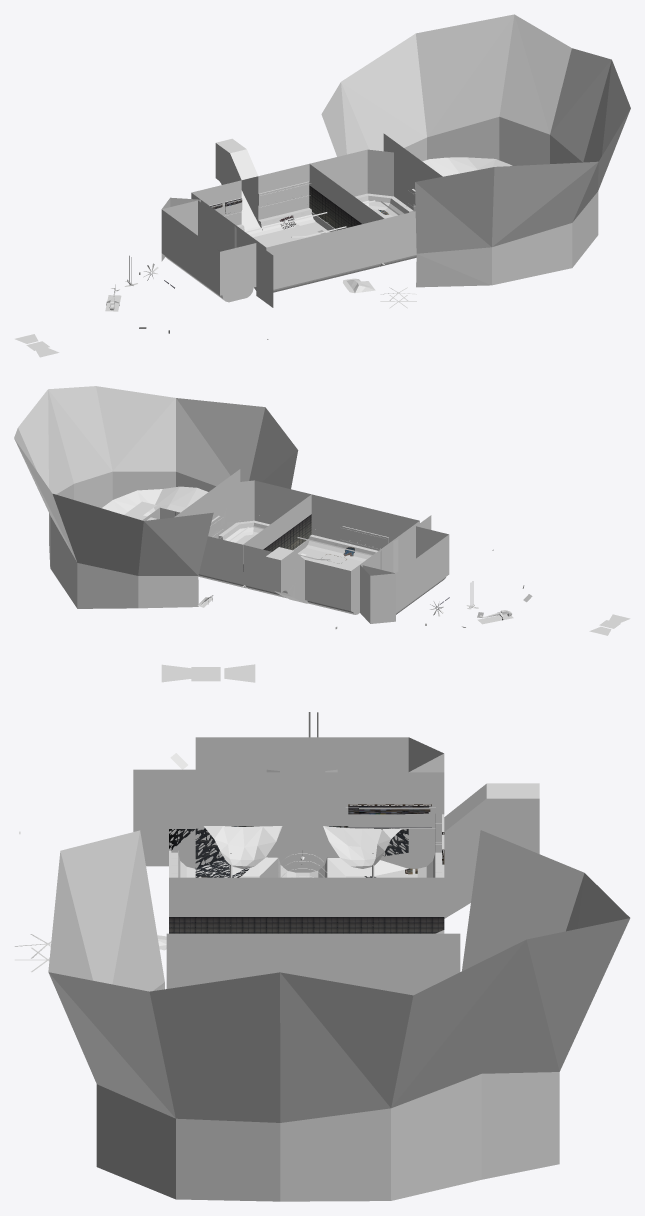
Rendered from t2_han.glb.
3 renders of one model, top to bottom at view 1: azimuth 30°, elevation 25°; view 2: azimuth 150°, elevation 25°; view 3: azimuth 270°, elevation 25°, orthographic. The views are drawn at different scales.
Visible parts, largest first — view 1: SKHAN_Col_Floor, SKHAN_Col_Wall, SKHAN_Col_Ride, SKHAN_Col_Pipe; view 2: SKHAN_Col_Wall, SKHAN_Col_Floor, SKHAN_Col_Ride, SKHAN_Col_Pipe; view 3: SKHAN_Col_Wall, SKHAN_Col_Floor, SKHAN_Col_Ride, SKHAN_Col_Pipe, SKHAN_Mesh_04, SKHAN_Atlas.
Part boxes in pixels (bbox=[...]): SKHAN_Col_Floor: bbox=[15, 14, 630, 357]; SKHAN_Col_Wall: bbox=[106, 60, 611, 339]; SKHAN_Col_Ride: bbox=[161, 143, 442, 302]; SKHAN_Col_Pipe: bbox=[165, 193, 416, 300]; SKHAN_Col_Wall: bbox=[48, 389, 511, 628]; SKHAN_Col_Floor: bbox=[14, 386, 630, 635]; SKHAN_Col_Ride: bbox=[142, 480, 449, 614]; SKHAN_Col_Pipe: bbox=[138, 515, 445, 614]; SKHAN_Col_Wall: bbox=[15, 712, 584, 1201]; SKHAN_Col_Floor: bbox=[14, 664, 630, 1118]; SKHAN_Col_Ride: bbox=[169, 737, 539, 990]; SKHAN_Col_Pipe: bbox=[171, 852, 441, 877]; SKHAN_Mesh_04: bbox=[169, 828, 408, 877]; SKHAN_Atlas: bbox=[231, 806, 430, 874].
Bounding box in the file's own units: 281 × 71.51 × 135.
34 materials, 32 textured.
